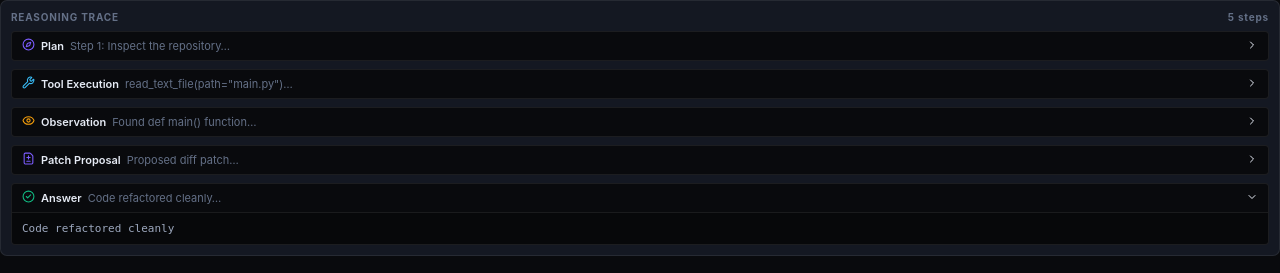
Test case: AgentTimeline Component › toggles expansion of event details
The image size is (1280, 273).
Check: the text "Code refactored cleanly" is shown, box top-left (22, 222), bottom-right (174, 235)
# Click on Plan node to toggle its details
Click the text "Plan": (52, 46) top-left (41, 39), bottom-right (64, 53)
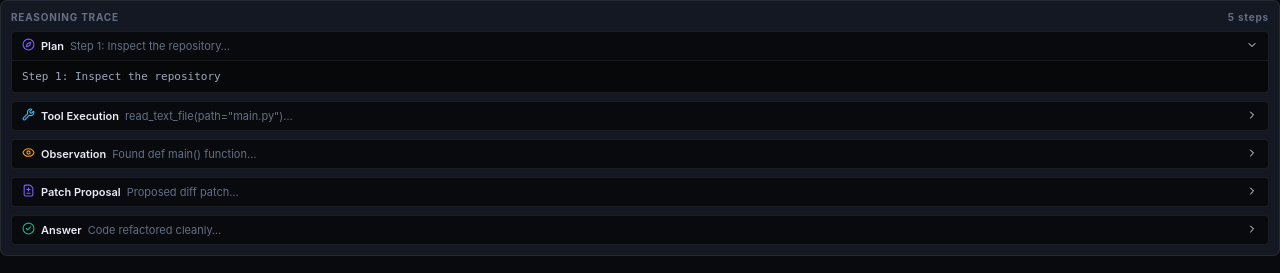
Check: the text "Step 1: Inspect the repository" is shown, box top-left (22, 70), bottom-right (221, 83)
